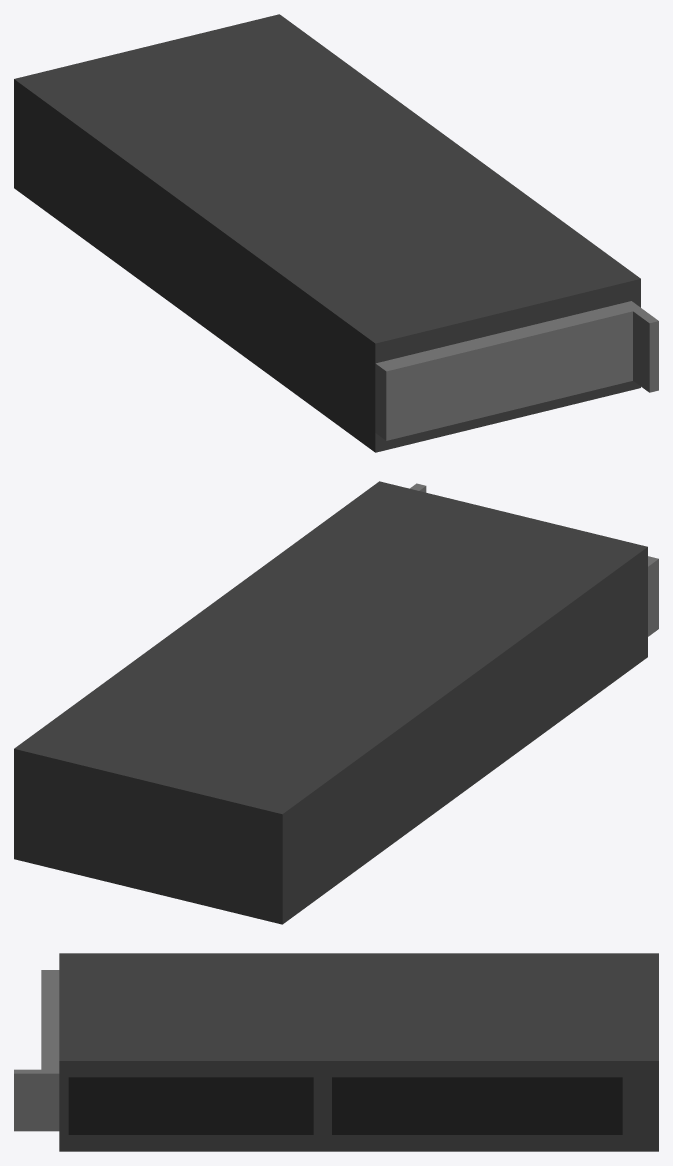
The model's file is 그래픽카드.obj.
3 views of the same model, one above another, from view 1: azimuth 30°, elevation 25°; view 2: azimuth 150°, elevation 25°; view 3: azimuth 270°, elevation 25° (orthographic). The views are drawn at different scales.
Size of the model in its own units: 2.8 by 1.1 by 7.1.
Materials: 1 (1 with a texture image).
